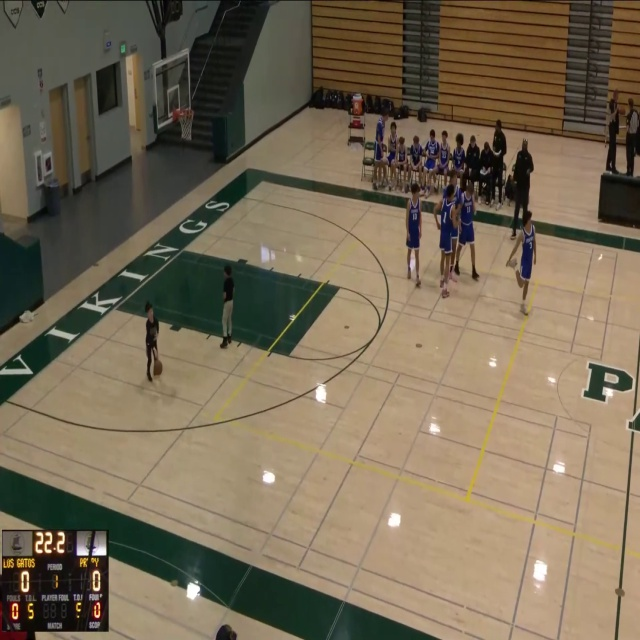Basketball: (153, 359, 162, 376)
